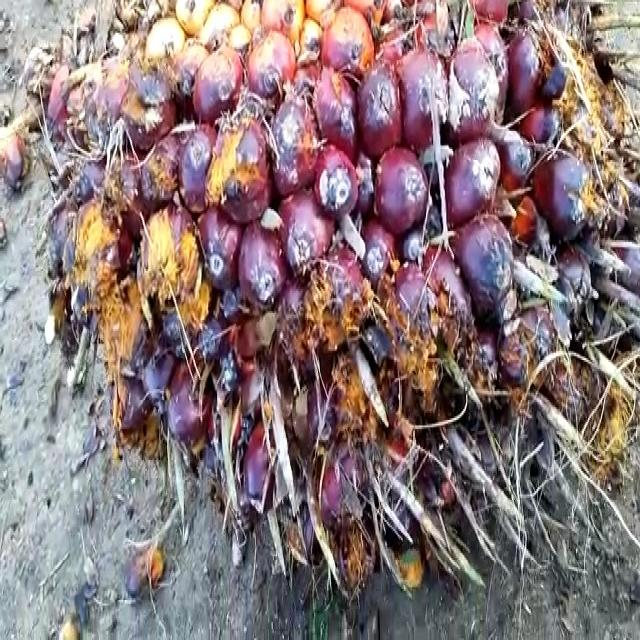palm oil: (50, 0, 640, 556)
